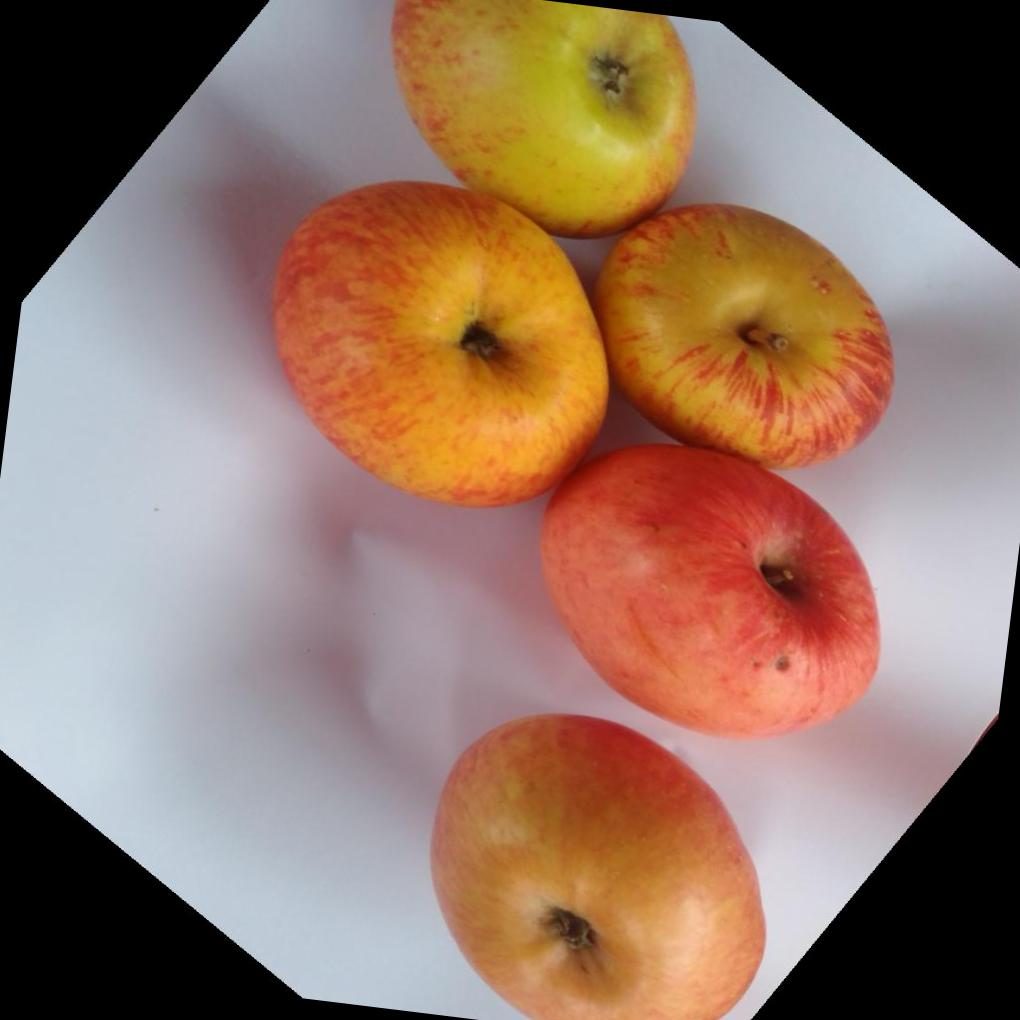FreshGuava: (271, 0, 894, 741), (428, 714, 767, 1020)
